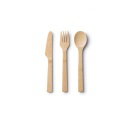Fork: (55, 28, 73, 95)
